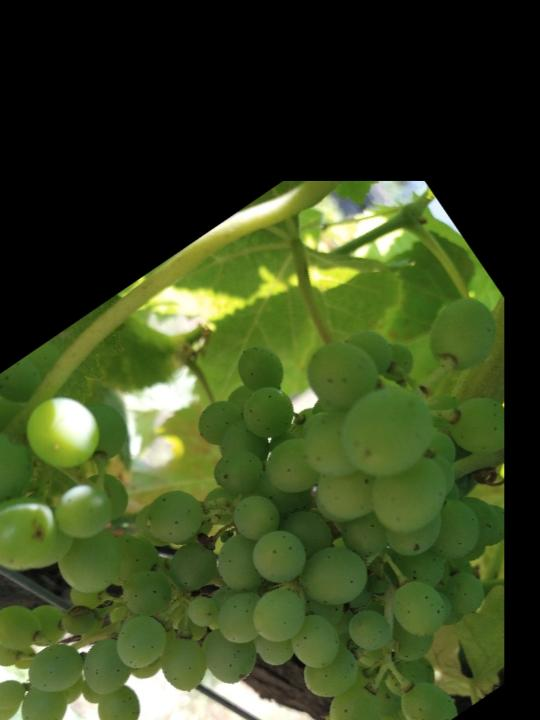grape: (0, 222, 540, 720)
